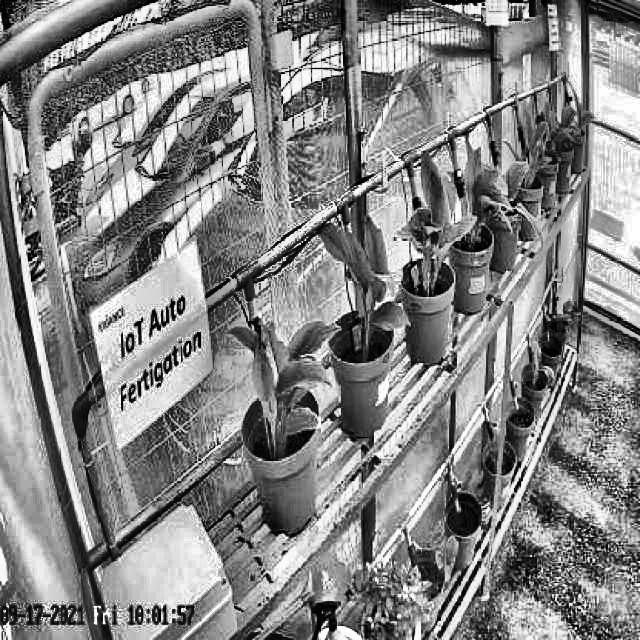plants: (227, 314, 341, 436), (318, 216, 410, 335), (398, 150, 476, 273), (464, 137, 508, 246), (524, 108, 552, 188), (574, 84, 597, 134)
